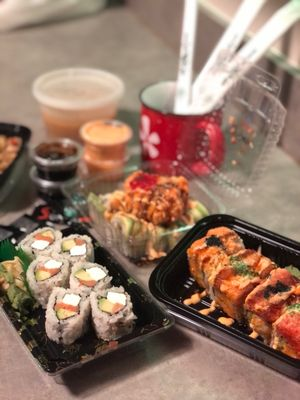soup: (45, 287, 92, 346)
sushi: (148, 214, 300, 382), (31, 67, 126, 141)
